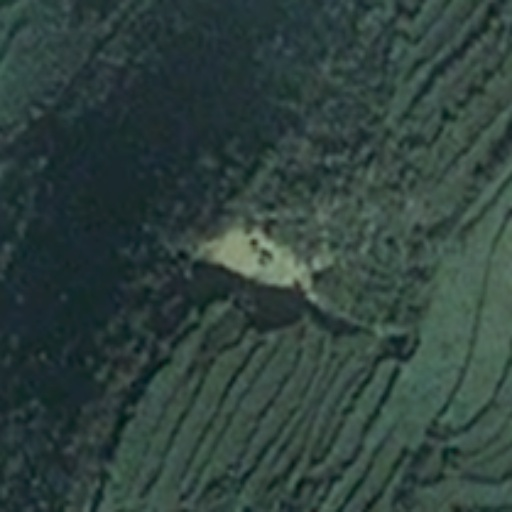landslide: (196, 226, 312, 291)
